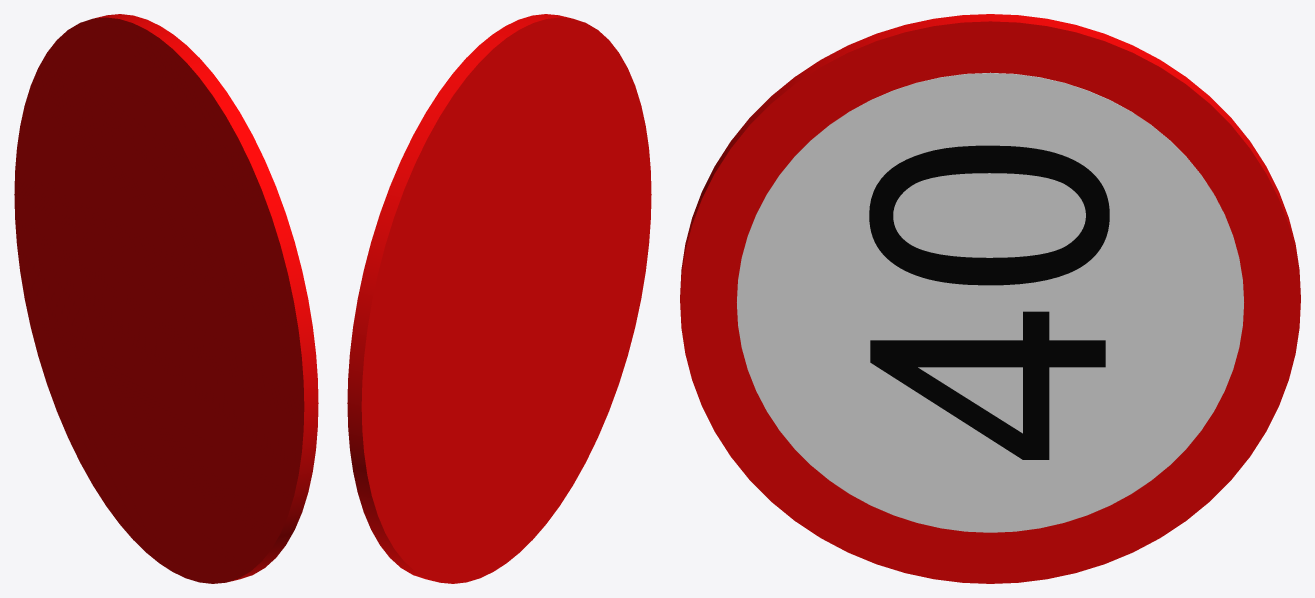
3 views of the same model, side by side, from view 1: azimuth 30°, elevation 25°; view 2: azimuth 150°, elevation 25°; view 3: azimuth 270°, elevation 25° (orthographic). The views are drawn at different scales.
Parts seen in each view (by area): view 1: 限速40; view 2: 限速40; view 3: 限速40.
Boxes of the visible parts, <box> form: 限速40: <box>14,14,318,583</box>; 限速40: <box>347,14,651,583</box>; 限速40: <box>680,14,1300,583</box>.
Size of the model in its own units: 0.0243 by 0.7737 by 0.7737.
